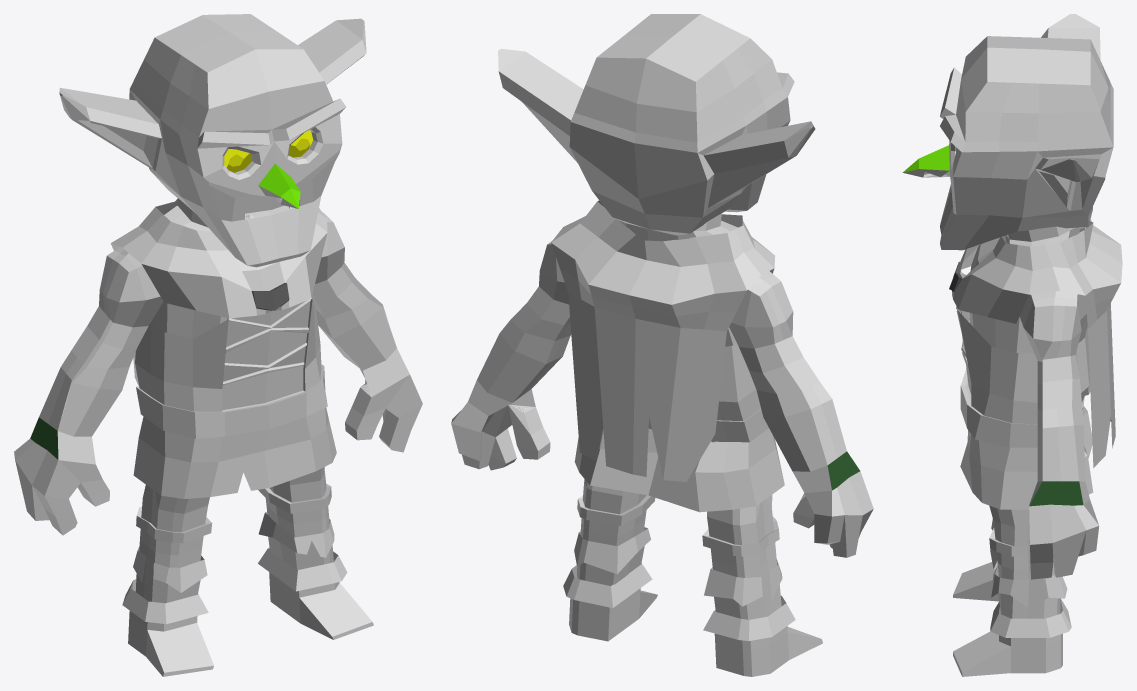
The model's file is goblin.glb.
3 renders of one model, left to right at view 1: azimuth 30°, elevation 25°; view 2: azimuth 150°, elevation 25°; view 3: azimuth 270°, elevation 25°, orthographic. The views are drawn at different scales.
Visible parts, largest first — view 1: Cube; view 2: Cube; view 3: Cube.
Boxes of the visible parts, x1,y1,x2,y2 form: Cube: (14,14,422,676); Cube: (451,14,873,676); Cube: (902,14,1122,676).
Bounding box in the file's own units: 1.51 × 2.25 × 0.7742.
